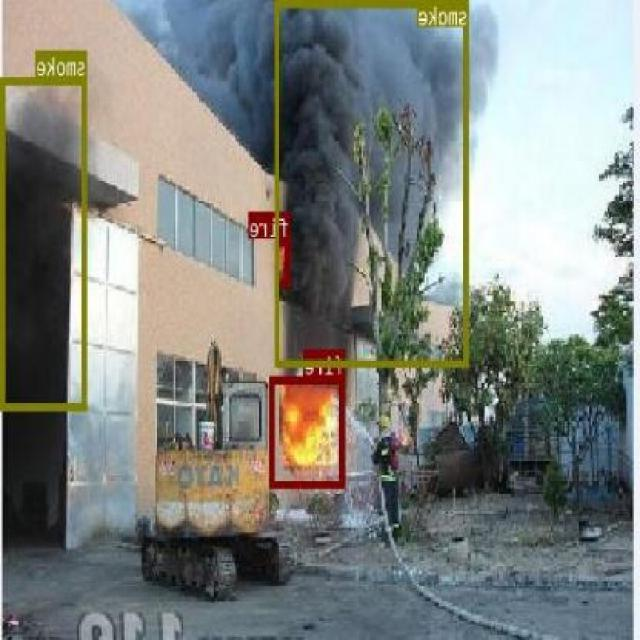Fire: (270, 374, 346, 488), (276, 237, 292, 286)
Smoke: (276, 0, 469, 366), (2, 76, 88, 409)
